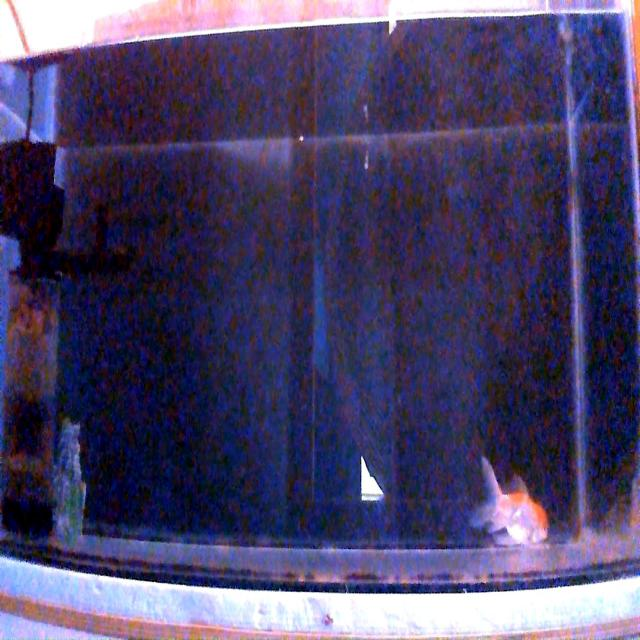fish: (470, 454, 550, 546)
